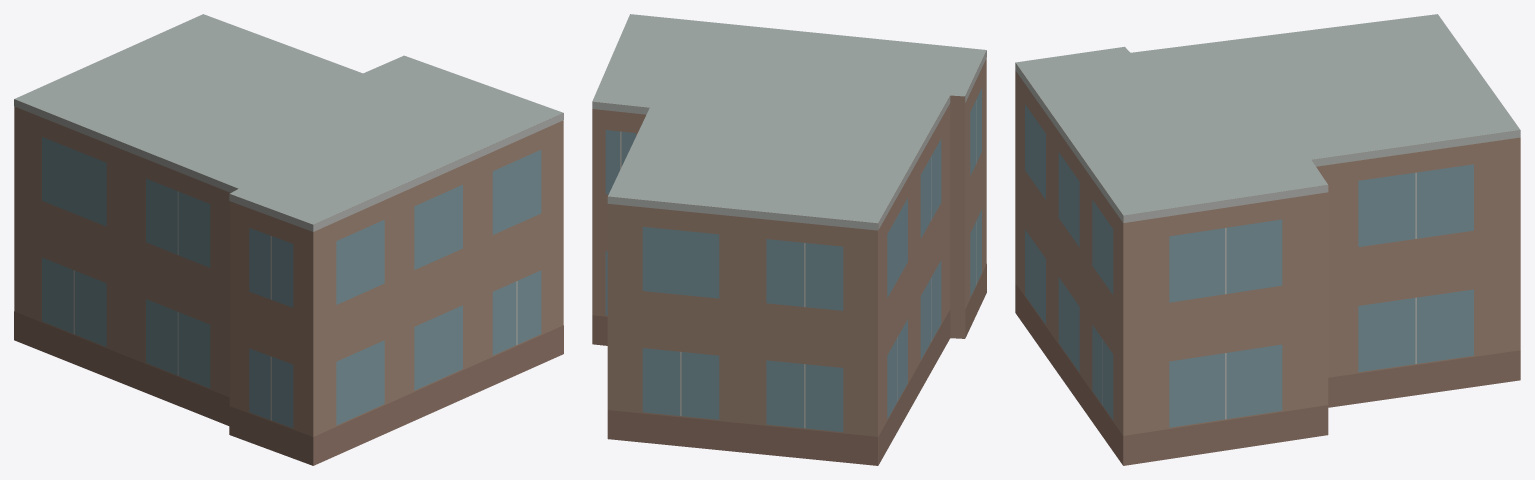
Rendered from survey-upis-32763853.glb.
3 views of the same model, side by side, from view 1: azimuth 30°, elevation 25°; view 2: azimuth 150°, elevation 25°; view 3: azimuth 270°, elevation 25° (orthographic). The views are drawn at different scales.
Parts seen in each view (by area): view 1: survey-upis-32763853.tmp; view 2: survey-upis-32763853.tmp; view 3: survey-upis-32763853.tmp.
Part boxes in pixels (left/top/right/bottom): survey-upis-32763853.tmp: left=14, top=14, right=563, bottom=465; survey-upis-32763853.tmp: left=592, top=14, right=986, bottom=465; survey-upis-32763853.tmp: left=1015, top=14, right=1520, bottom=465.
Bounding box in the file's own units: 14 × 8.1 × 14.83.
